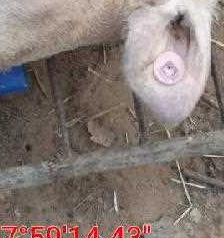text: (144, 41, 193, 93)
